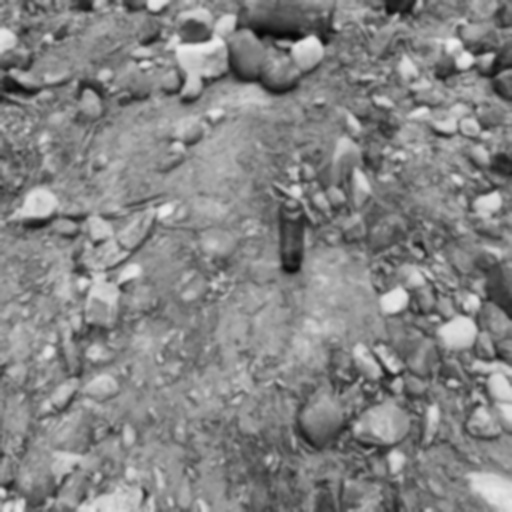bottle: (278, 199, 305, 273)
